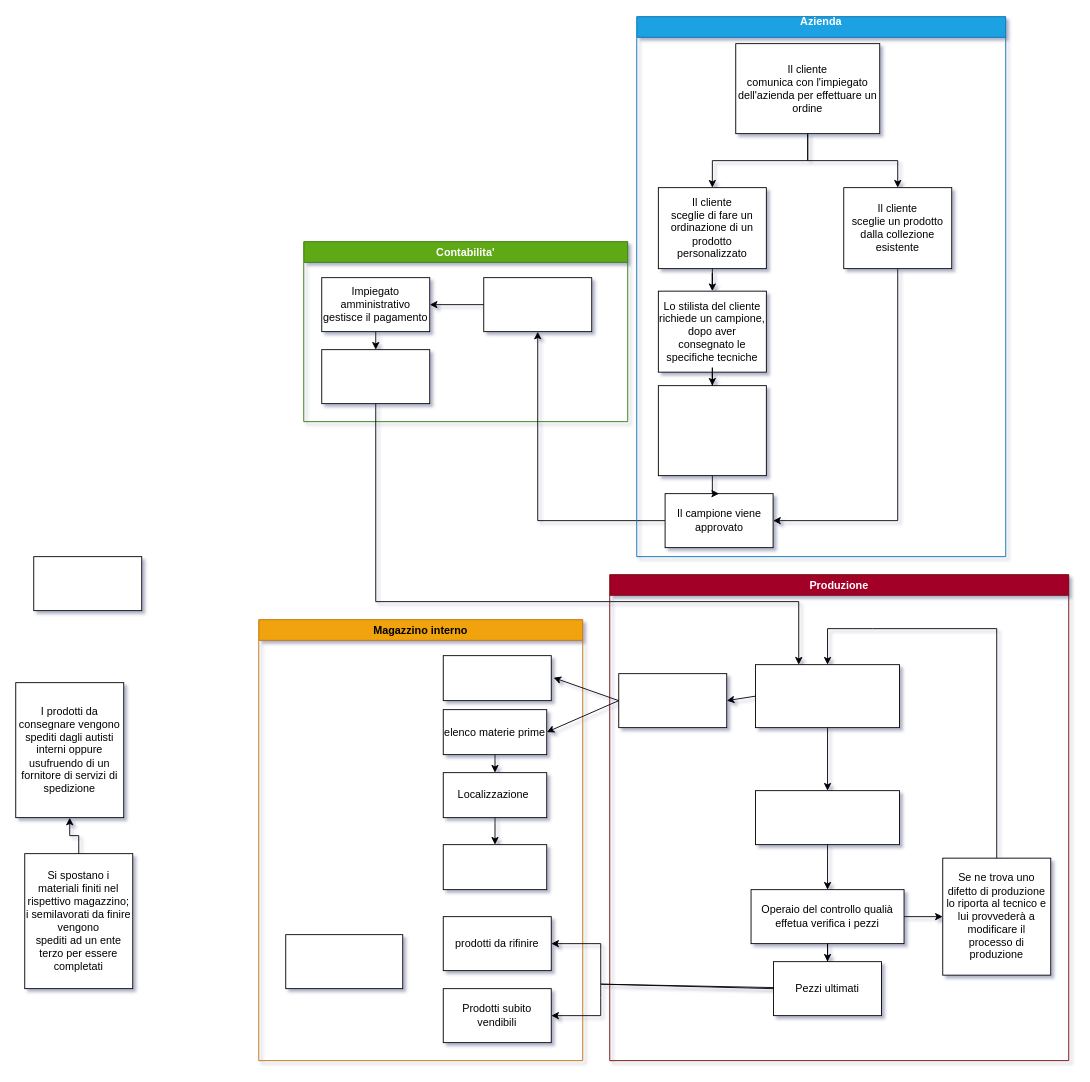
The diagram is 1090 pixels wide and 1082 high, and some of its shapes have lost their labels. The centre of each missing label's shape, as x and y in pixels:
Controllo scorte di materie prime: the point at 87,583
Corrispondenza codice identificativi: the point at 494,867
Fatturazione: the point at 375,376
Il capoturno riceve i comandi e organizza gli orari di lavoro: the point at 827,817
Il Cliente effettua il pagamento: the point at 537,304
L’impiegato tecnico gestisce lo sviluppo della produzione: the point at 827,696
Magazzino prodotti finiti: the point at 344,961
Ricerca in magazzino: the point at 672,700
Scelta della campionatura: the point at 711,430
Semilavorati: the point at 496,678
